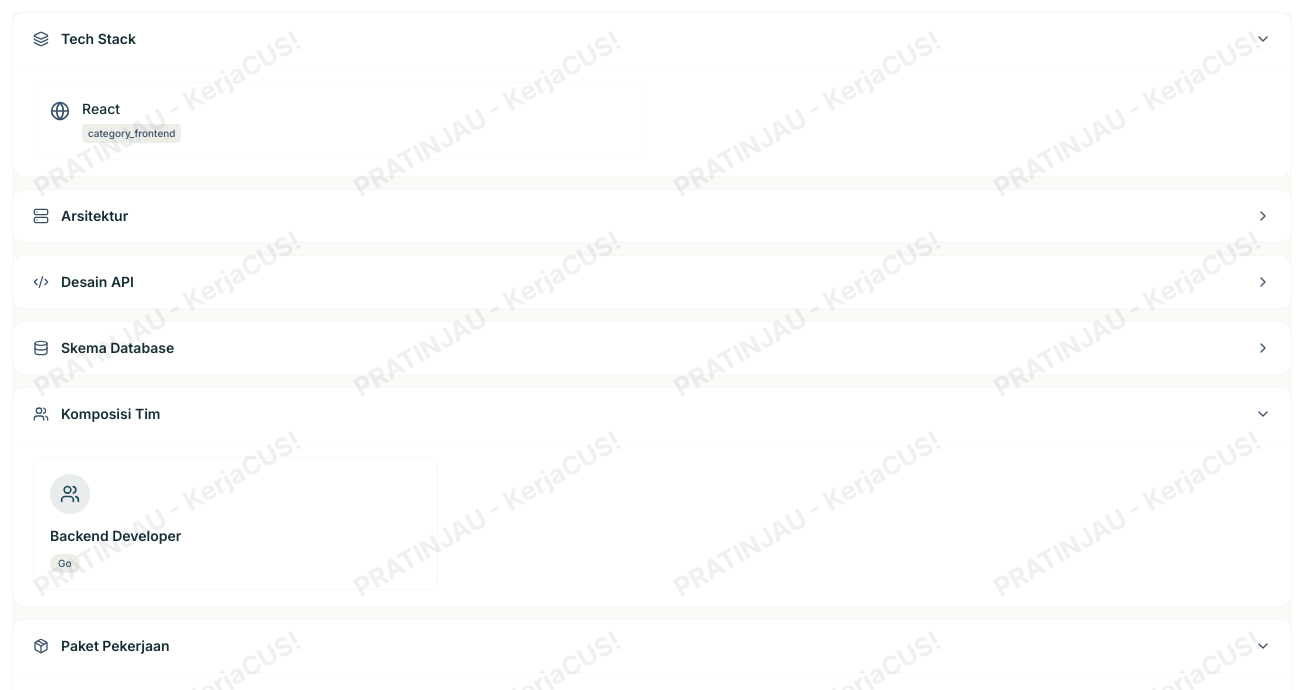
PrdDocumentBody › the buyer view › labels the API design rather than showing an empty table
The image size is (1304, 690).
Click the button "Desain API": {"x": 97, "y": 282} left=13, top=256, right=1291, bottom=308
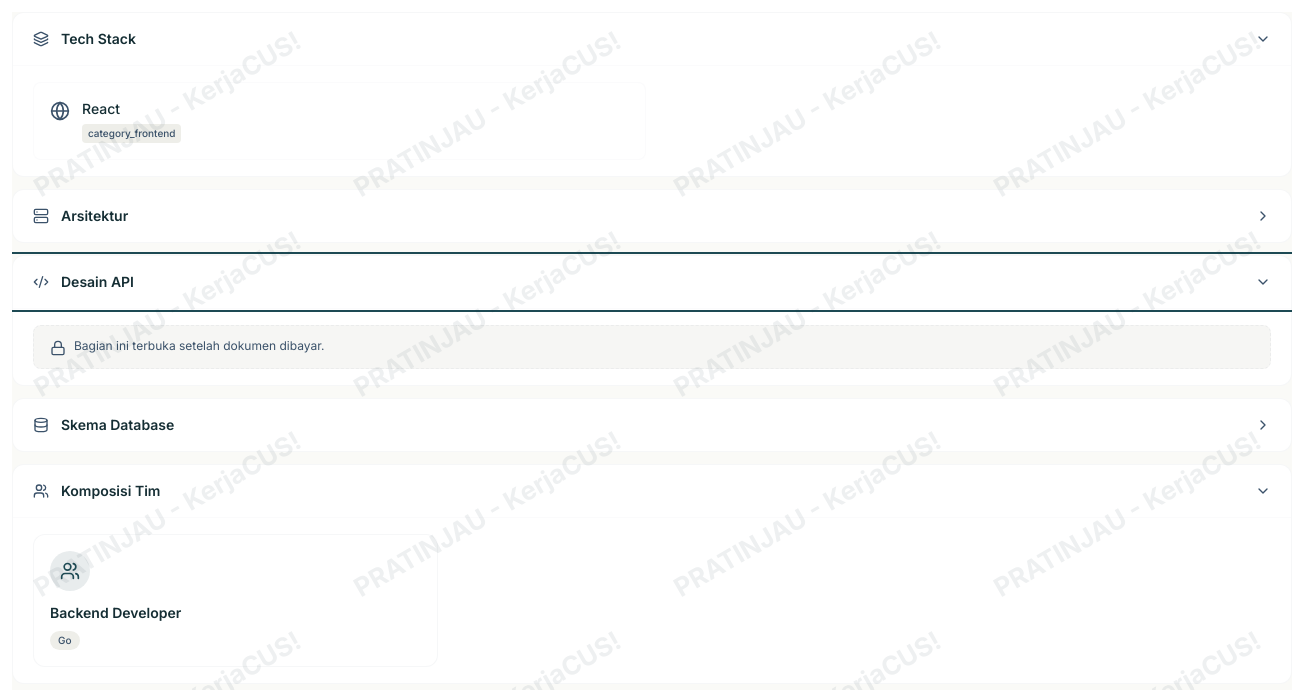
Result: the text "Bagian ini terbuka setelah dokumen dibayar." is shown at left=74, top=338, right=324, bottom=354
